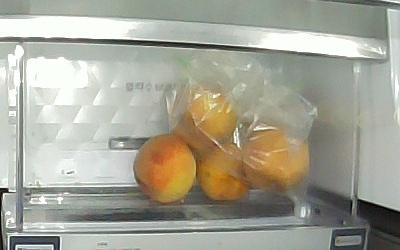peach: (133, 134, 196, 203)
peach_vinyl: (243, 123, 309, 191), (172, 88, 236, 148), (197, 143, 250, 201)
